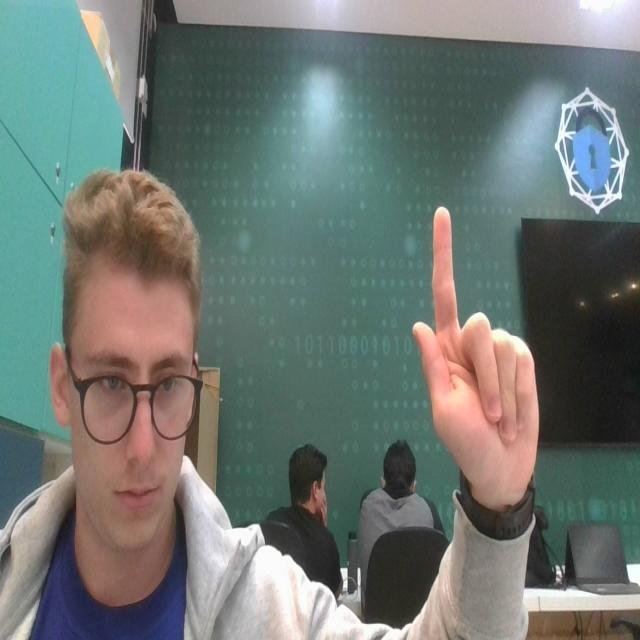G: (411, 197, 541, 496)
